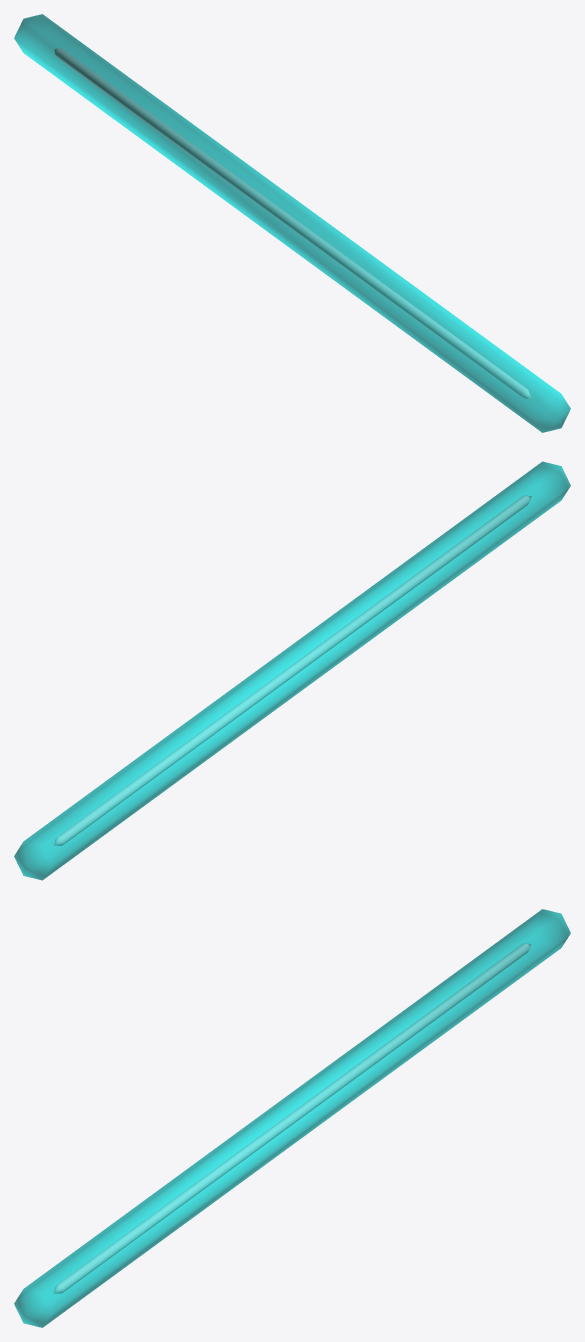
File: cyan_laser_model.fbx
3 views of the same model, one above another, from view 1: azimuth 30°, elevation 25°; view 2: azimuth 150°, elevation 25°; view 3: azimuth 330°, elevation 25° (orthographic).
Visible parts, largest first — view 1: glow, bolt; view 2: glow, bolt; view 3: glow, bolt.
Boxes of the visible parts, box(x1,y1,x2,y2) form: glow: box(14, 14, 570, 432); bolt: box(54, 48, 531, 398); glow: box(14, 461, 570, 880); bolt: box(54, 495, 531, 845); glow: box(14, 909, 570, 1327); bolt: box(53, 943, 530, 1293).
Bounding box in the file's own units: 3.15 × 2.73 × 76.43.
